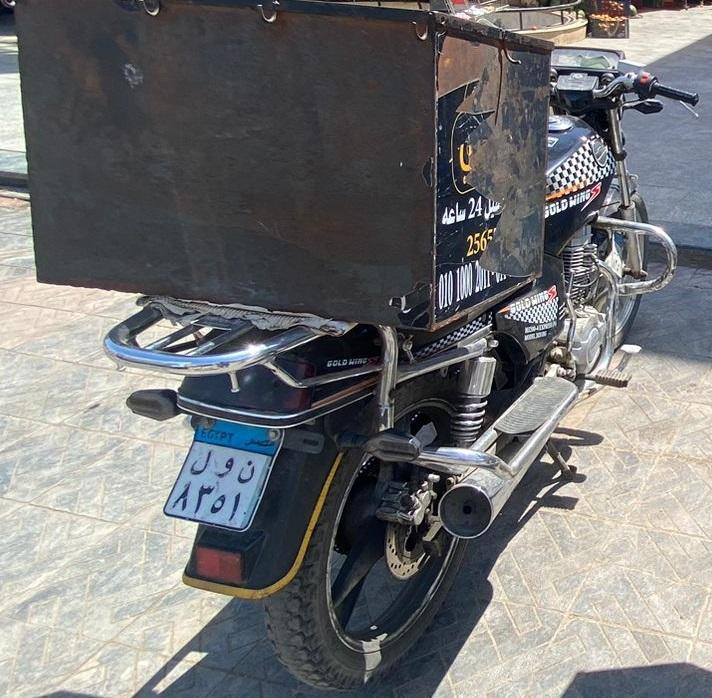License Plate: (165, 418, 283, 532)
